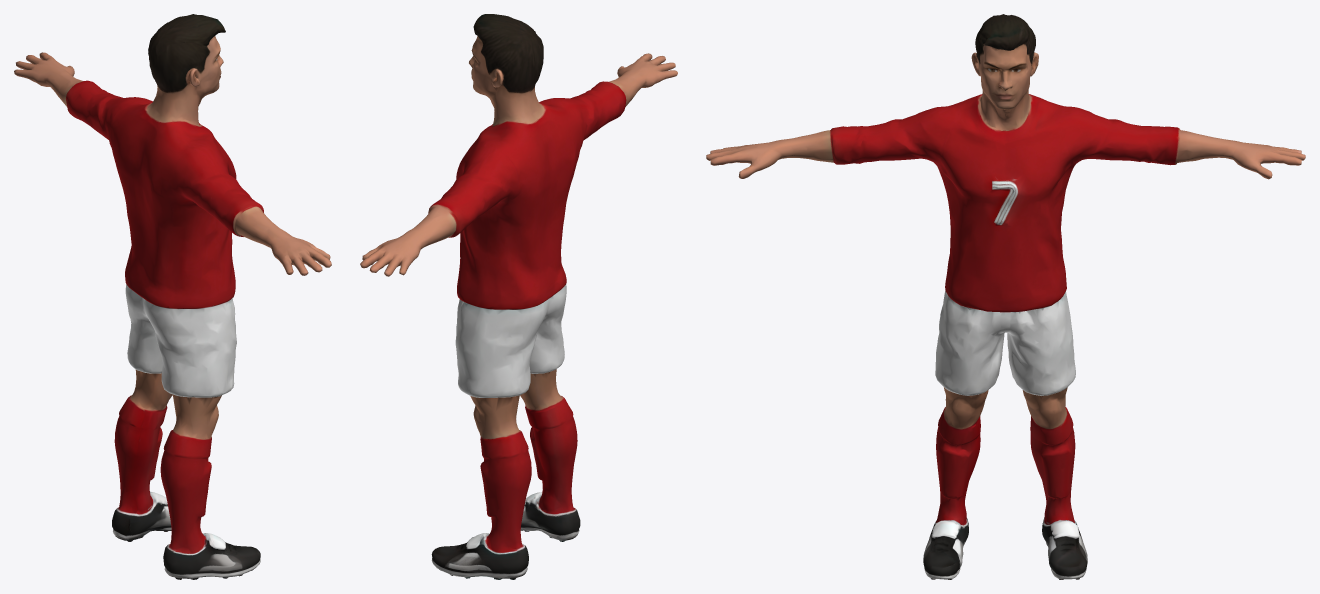
Rendered from 2008_ronaldo.glb.
The picture shows the model from 3 angles, left to right: view 1: azimuth 30°, elevation 25°; view 2: azimuth 150°, elevation 25°; view 3: azimuth 270°, elevation 25°; orthographic projection. The views are drawn at different scales.
Parts seen in each view (by area): view 1: Object_01; view 2: Object_01; view 3: Object_01.
Boxes of the visible parts, x1,y1,x2,y2 form: Object_01: [14, 14, 331, 579]; Object_01: [360, 14, 677, 579]; Object_01: [706, 14, 1305, 579].
Size of the model in its own units: 0.3287 by 1.8 by 1.78.
1 material, 1 textured.
